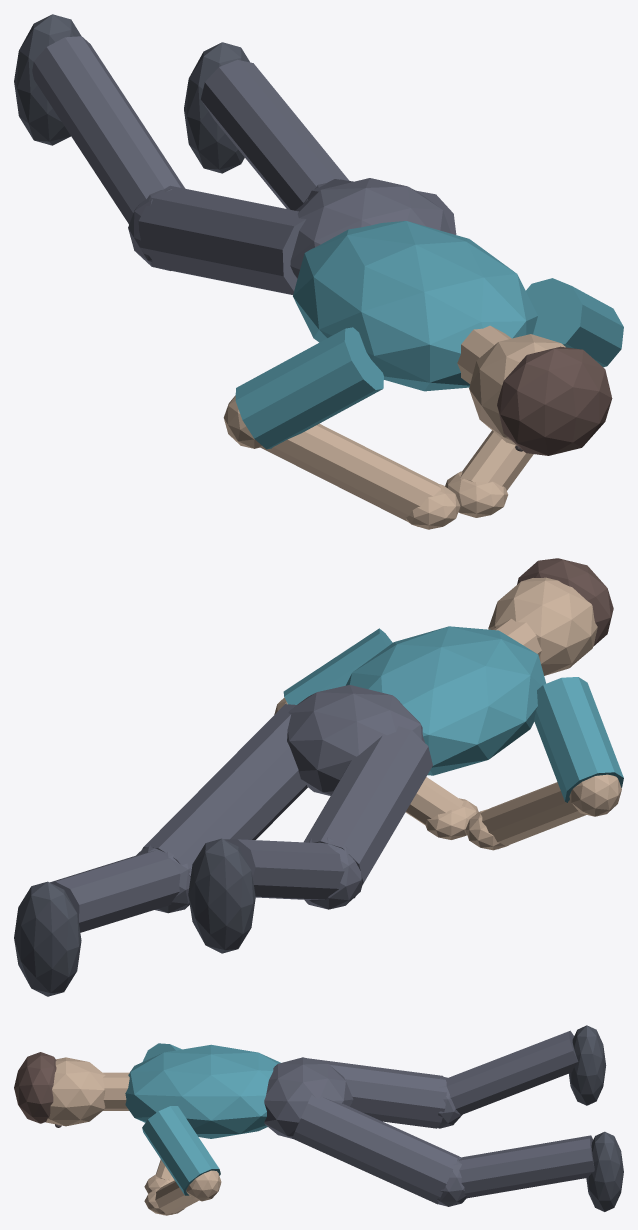
3 views of the same model, one above another, from view 1: azimuth 30°, elevation 25°; view 2: azimuth 150°, elevation 25°; view 3: azimuth 270°, elevation 25° (orthographic). The views are drawn at different scales.
Parts seen in each view (by area): view 1: world; view 2: world; view 3: world.
Boxes of the visible parts, box(x1,y1,x2,y2) form: world: box(14, 14, 623, 529); world: box(14, 558, 623, 996); world: box(14, 1025, 623, 1215).
Size of the model in its own units: 0.93 by 0.6103 by 2.06.
